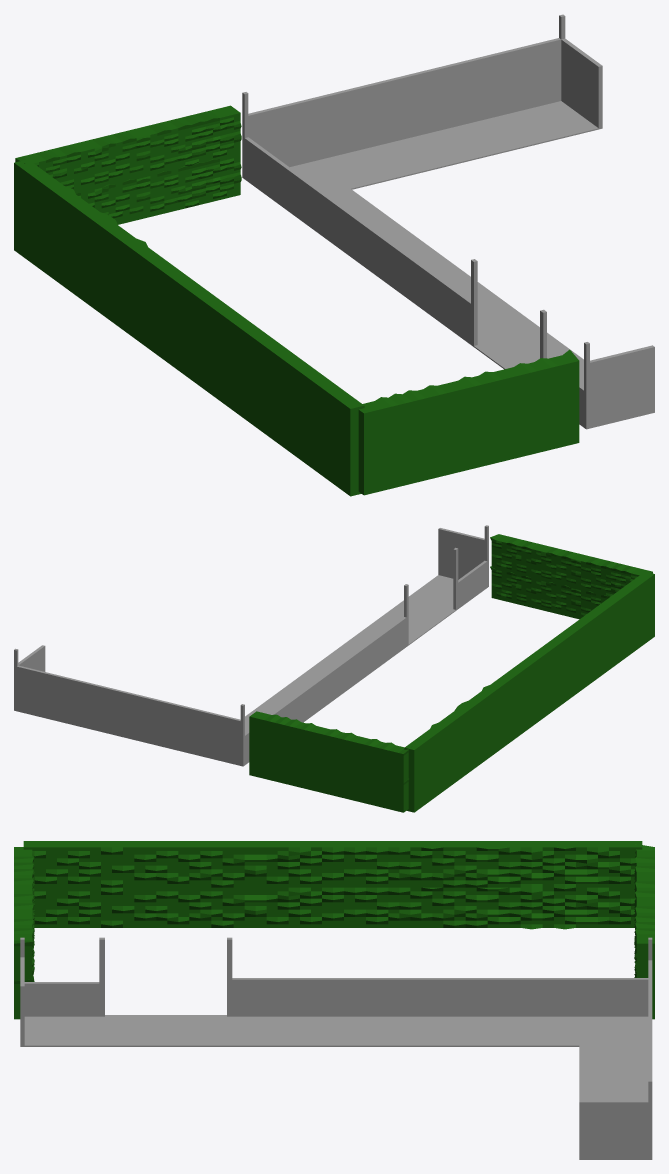
File: parede_alta.fbx
The picture shows the model from 3 angles, top to bottom: view 1: azimuth 30°, elevation 25°; view 2: azimuth 150°, elevation 25°; view 3: azimuth 270°, elevation 25°; orthographic projection. The views are drawn at different scales.
Visible parts, largest first — view 1: Cube.007, Cube.005, Cube.049, Cube.047, Cube.050, Cube.048, Cube.045, Cube.046; view 2: Cube.007, Cube.049, Cube.005, Cube.047, Cube.048, Cube.050, Cube.046, Cube.045; view 3: Cube.007, Cube.049, Cube.047, Cube.005, Cube.050, Cube.048.
Part boxes in pixels (x1=…): Cube.007: x1=242, y1=92, x2=654, y2=429; Cube.005: x1=311, y1=14, x2=602, y2=189; Cube.049: x1=14, y1=159, x2=364, y2=452; Cube.047: x1=14, y1=207, x2=361, y2=496; Cube.050: x1=358, y1=349, x2=579, y2=454; Cube.048: x1=15, y1=105, x2=241, y2=192; Cube.045: x1=358, y1=402, x2=579, y2=495; Cube.046: x1=75, y1=154, x2=241, y2=224; Cube.007: x1=194, y1=525, x2=488, y2=766; Cube.049: x1=404, y1=571, x2=654, y2=781; Cube.005: x1=14, y1=645, x2=195, y2=754; Cube.047: x1=406, y1=605, x2=654, y2=812; Cube.048: x1=249, y1=711, x2=411, y2=783; Cube.050: x1=490, y1=534, x2=652, y2=597; Cube.046: x1=249, y1=746, x2=408, y2=812; Cube.045: x1=490, y1=566, x2=609, y2=619; Cube.007: x1=20, y1=937, x2=652, y2=1046; Cube.049: x1=23, y1=841, x2=642, y2=889; Cube.047: x1=34, y1=887, x2=635, y2=929; Cube.005: x1=579, y1=989, x2=652, y2=1159; Cube.050: x1=14, y1=847, x2=34, y2=981; Cube.048: x1=634, y1=844, x2=654, y2=981.
Bounding box in the file's own units: 4842 × 805 × 5274.
